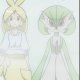gardevoir: (33, 4, 77, 80)
